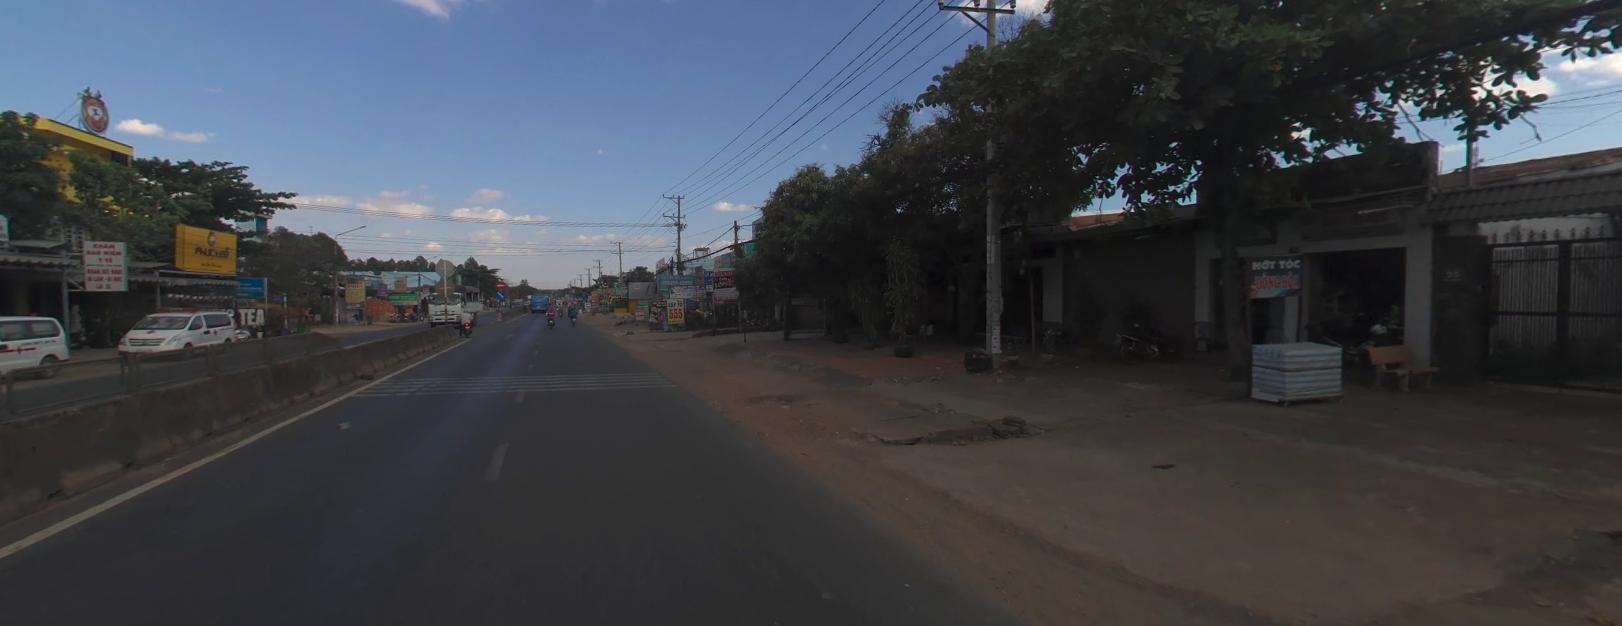Cam nguoc chieu: (495, 279, 505, 287)
Hieu lenh: (495, 288, 505, 296)
